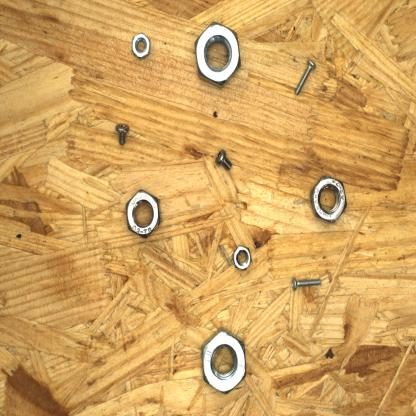screw: (292, 56, 318, 98), (211, 146, 236, 174), (288, 275, 324, 294), (114, 122, 132, 148)
